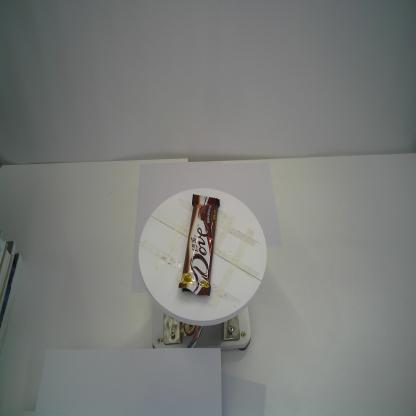Chocolate: (178, 193, 221, 297)
